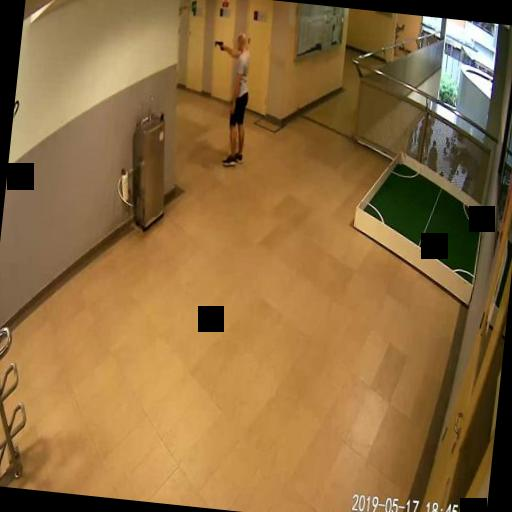Handgun: (214, 38, 224, 50)
